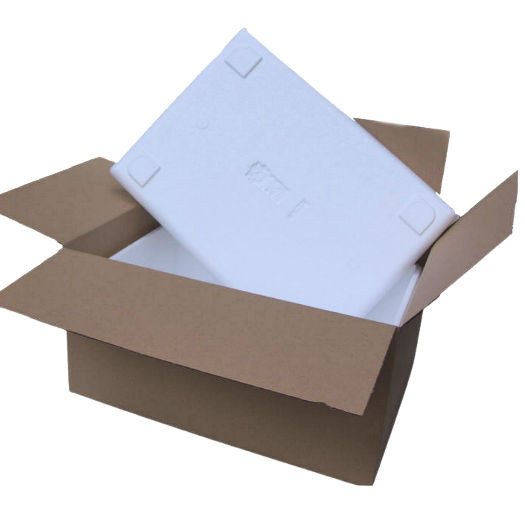Boxes: (112, 31, 455, 325)
